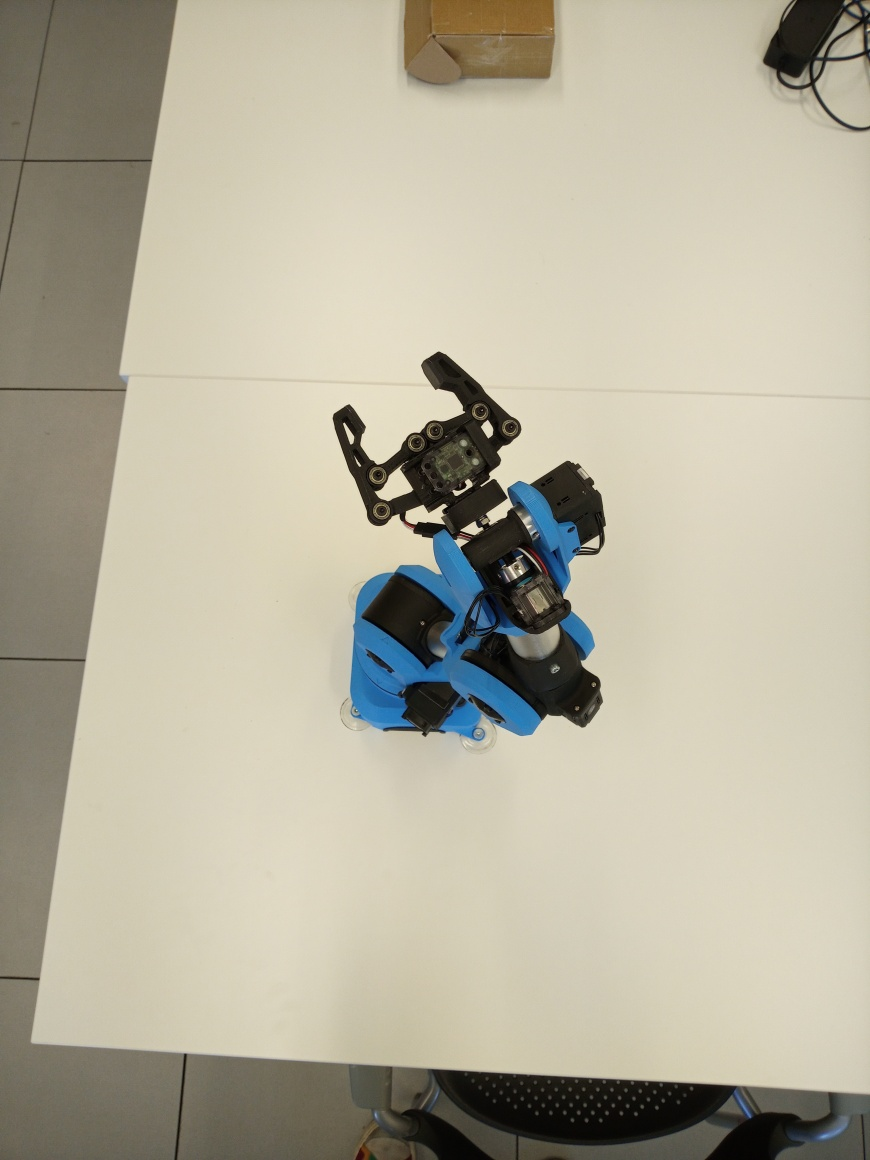robot: (328, 346, 620, 757)
